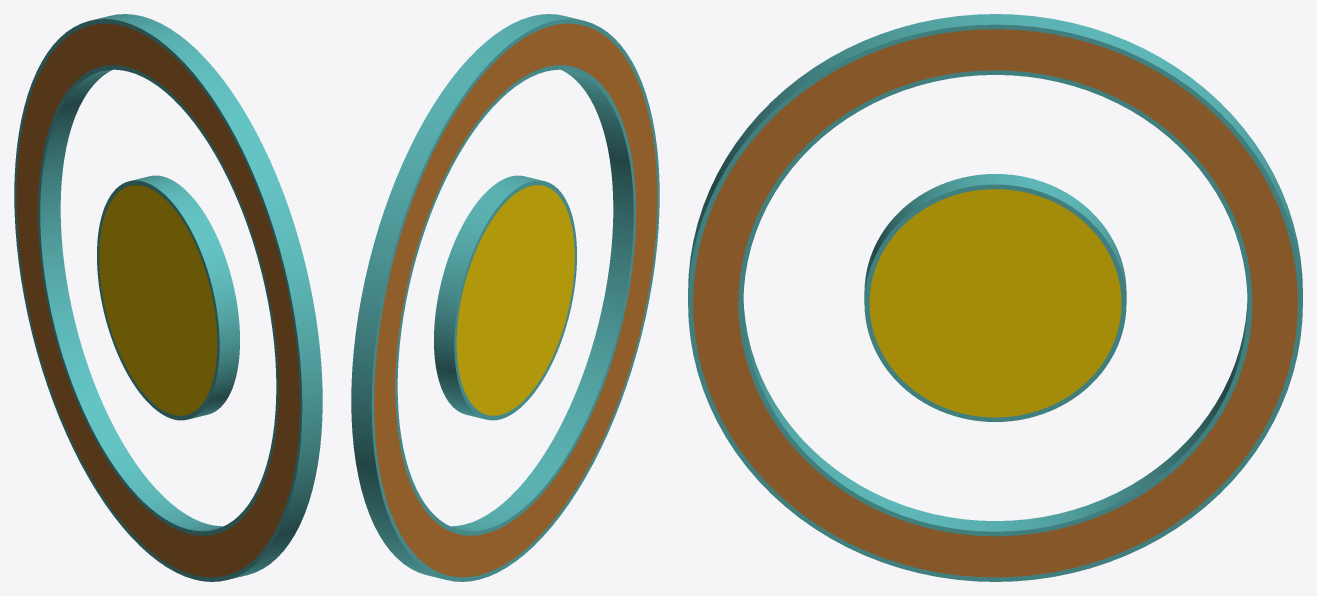
File: collectable_basic.dae
3 renders of one model, left to right at view 1: azimuth 30°, elevation 25°; view 2: azimuth 150°, elevation 25°; view 3: azimuth 270°, elevation 25°, orthographic. The views are drawn at different scales.
Parts seen in each view (by area): view 1: Component_3 (×6); view 2: Component_3 (×6); view 3: Component_3 (×6).
Boxes of the visible parts, x1=… form: Component_3 (×6): x1=14, y1=14, x2=322, y2=581; Component_3 (×6): x1=351, y1=14, x2=659, y2=581; Component_3 (×6): x1=688, y1=14, x2=1302, y2=581.
Bounding box in the file's own units: 12.2 × 298 × 298.
